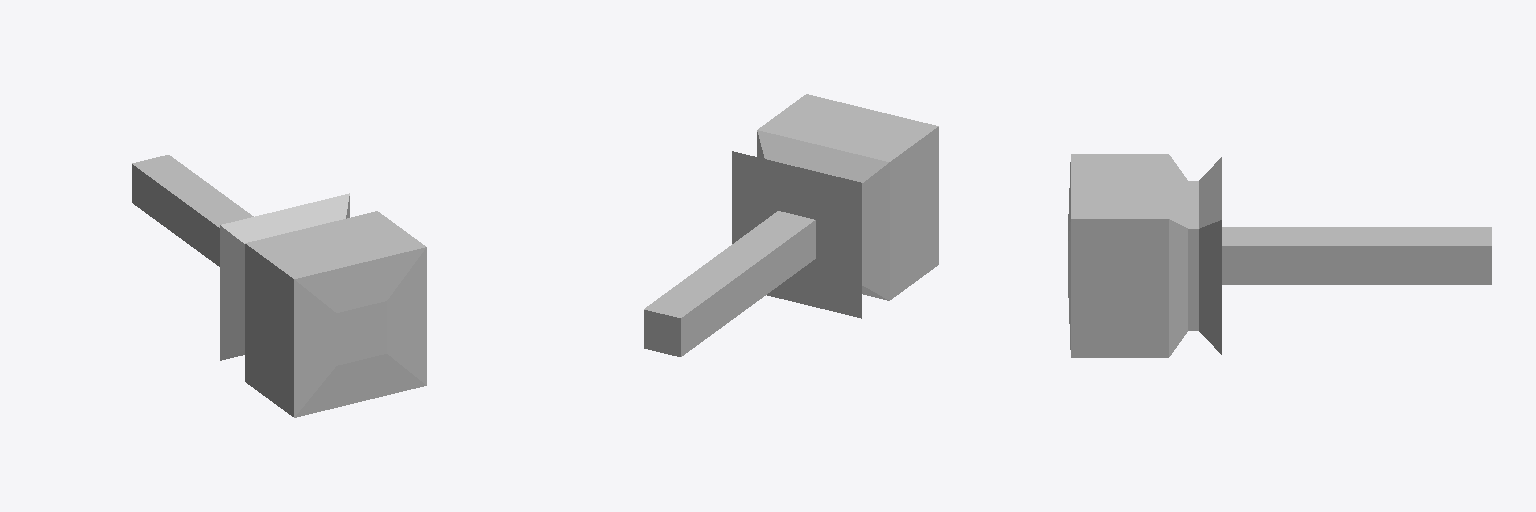
File: ScaleWidget.obj
The picture shows the model from 3 angles: view 1: azimuth 30°, elevation 25°; view 2: azimuth 150°, elevation 25°; view 3: azimuth 270°, elevation 25°; orthographic projection.
Parts seen in each view (by area): view 1: Cube; view 2: Cube; view 3: Cube.
Boxes of the visible parts, box(x1,y1,x2,y2) form: Cube: box(132, 155, 426, 417); Cube: box(644, 94, 938, 356); Cube: box(1068, 154, 1491, 357).
Size of the model in its own units: 1.81 by 1.81 by 5.02.